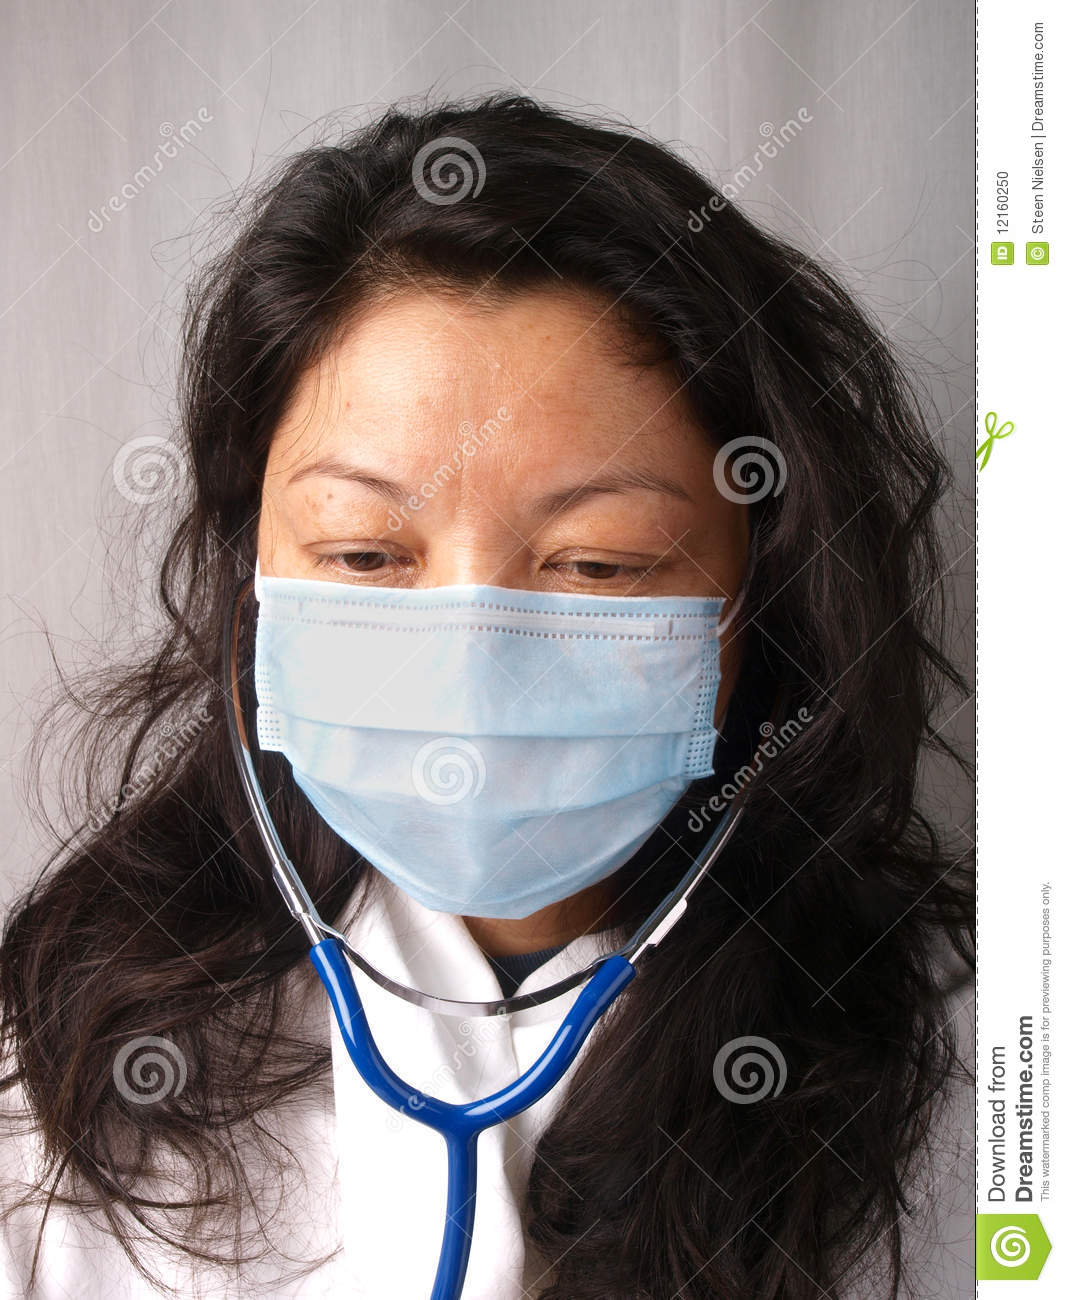mask: (248, 581, 723, 917)
